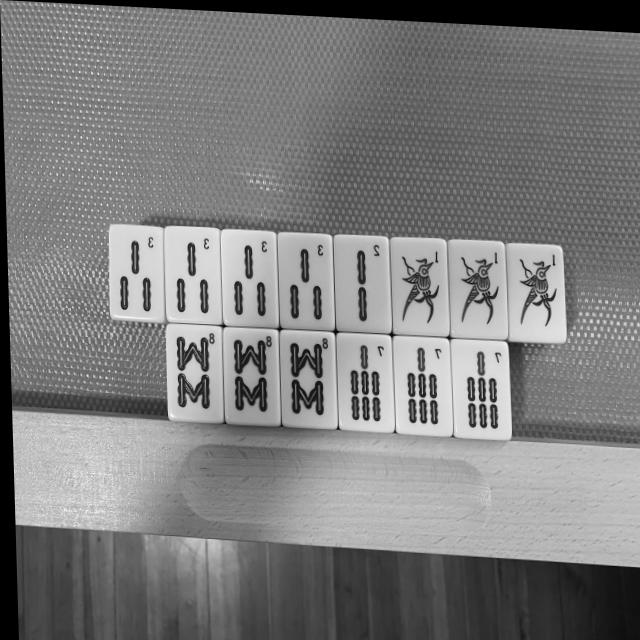1B: (449, 241, 507, 340), (507, 244, 565, 342), (391, 239, 449, 334)
2B: (333, 236, 391, 334)
3B: (221, 230, 278, 328), (166, 227, 222, 324), (279, 234, 335, 330), (110, 225, 165, 321)
7B: (393, 337, 453, 437), (451, 340, 511, 440), (335, 333, 394, 432)
8B: (279, 330, 338, 430), (223, 327, 280, 426), (167, 324, 224, 422)
